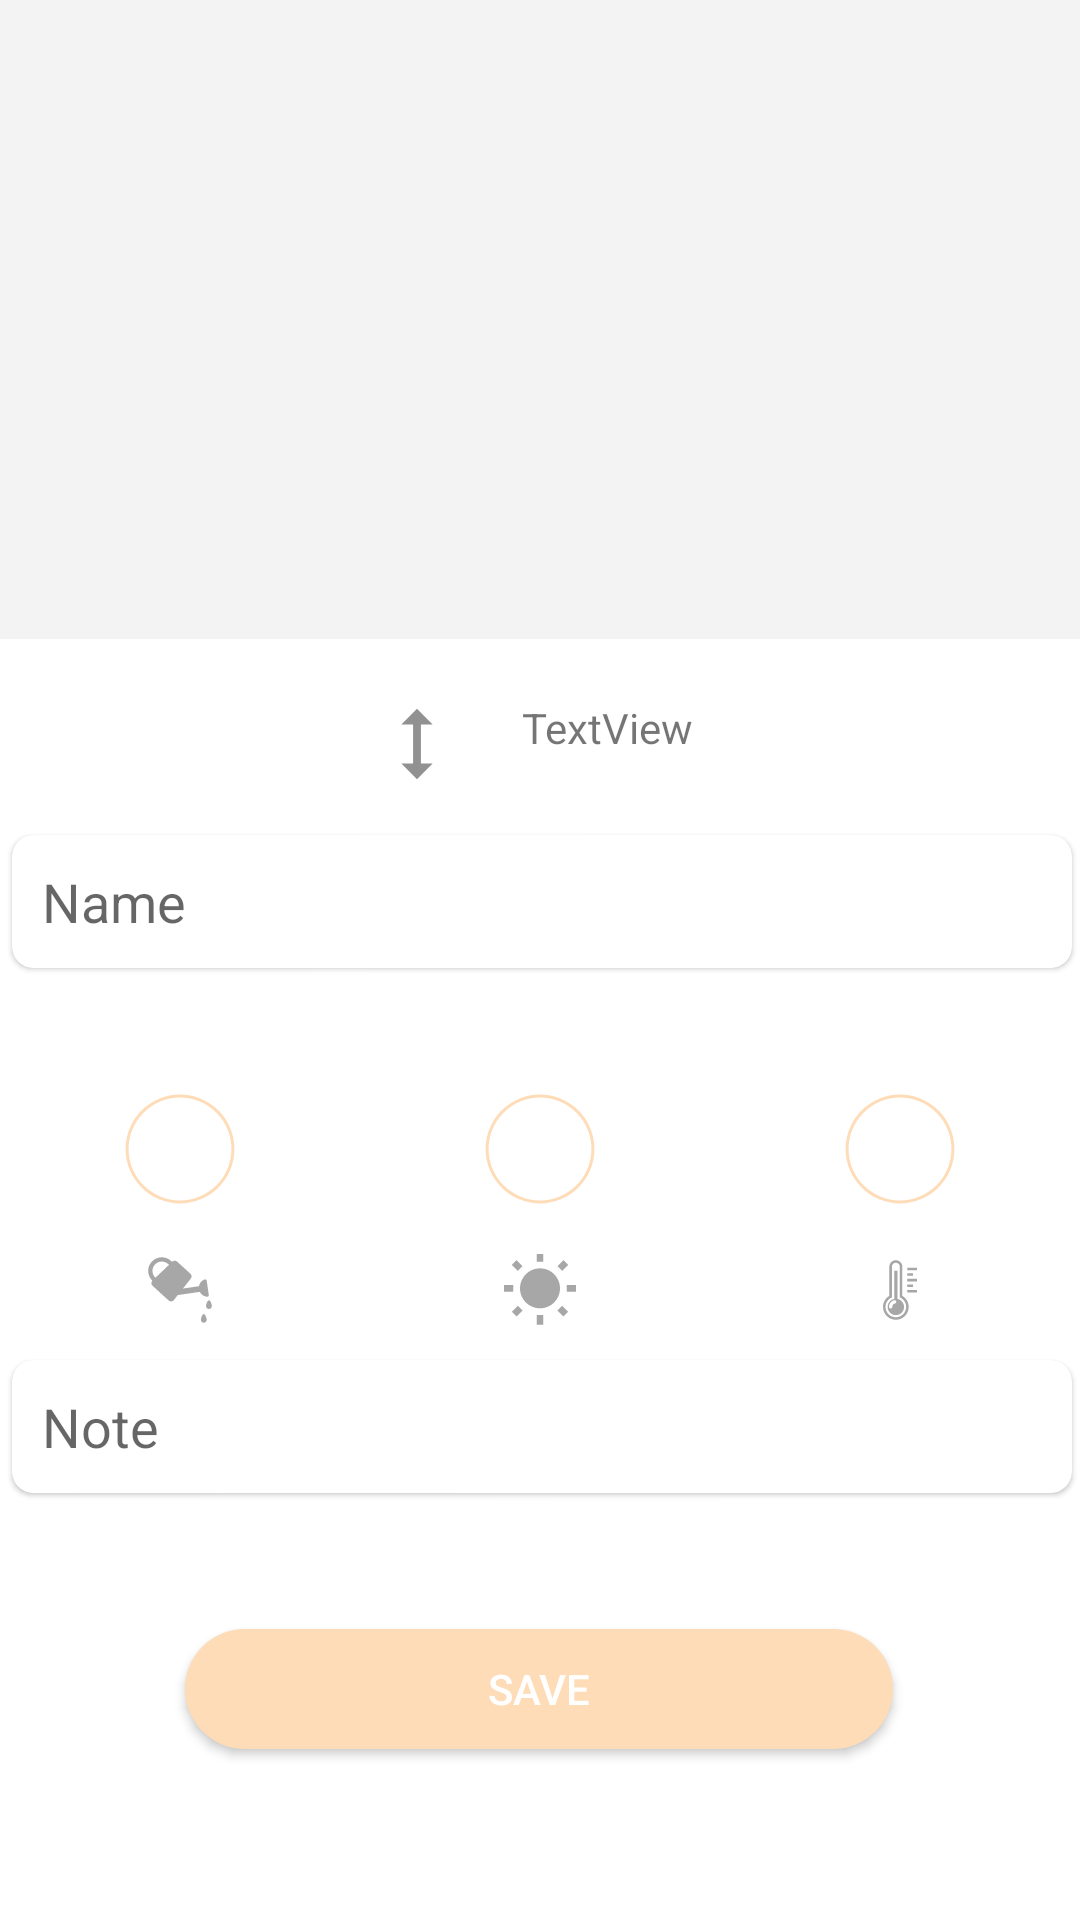

Named icons in this screenshot (1080px×1920px) and their centers, point (x, y):
height: point (417, 744)
sunlight: point (540, 1289)
temperature: point (900, 1290)
watering: point (180, 1290)
